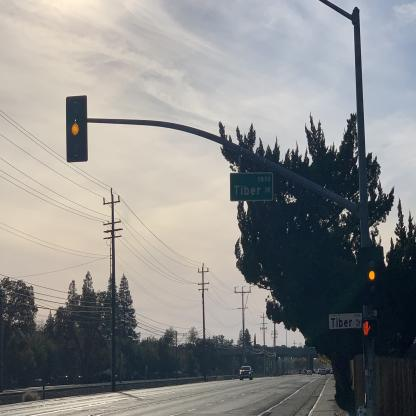yellow: (358, 246, 385, 305), (66, 95, 88, 163)
